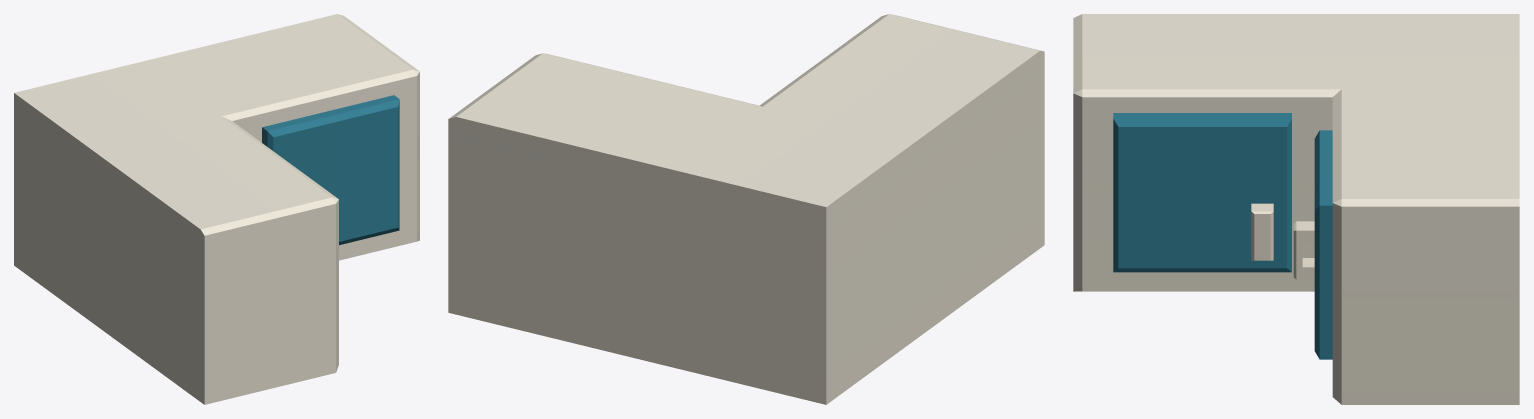
Rendered from HighCabinetCorner.glb.
3 views of the same model, side by side, from view 1: azimuth 30°, elevation 25°; view 2: azimuth 150°, elevation 25°; view 3: azimuth 270°, elevation 25° (orthographic). The views are drawn at different scales.
Parts seen in each view (by area): view 1: HighCabinetCorner; view 2: HighCabinetCorner; view 3: HighCabinetCorner.
Part boxes in pixels (x1=…): HighCabinetCorner: x1=14, y1=14, x2=419, y2=404; HighCabinetCorner: x1=448, y1=14, x2=1044, y2=404; HighCabinetCorner: x1=1073, y1=14, x2=1519, y2=404.
Bounding box in the file's own units: 1 × 0.5 × 1.
Materials: 1 (1 with a texture image).
